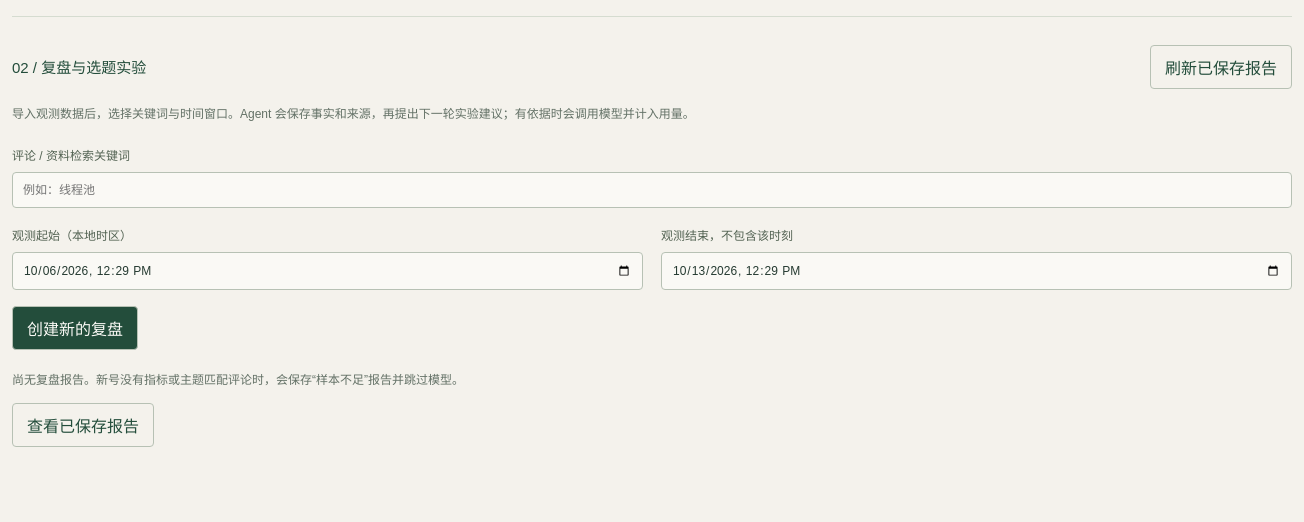
Test: does not send a paid request when the browser cannot persist its retry identifier
Step 1. Type "线程池" into the field named "复盘关键词" → [652, 190], box 12,172 -> 1292,208
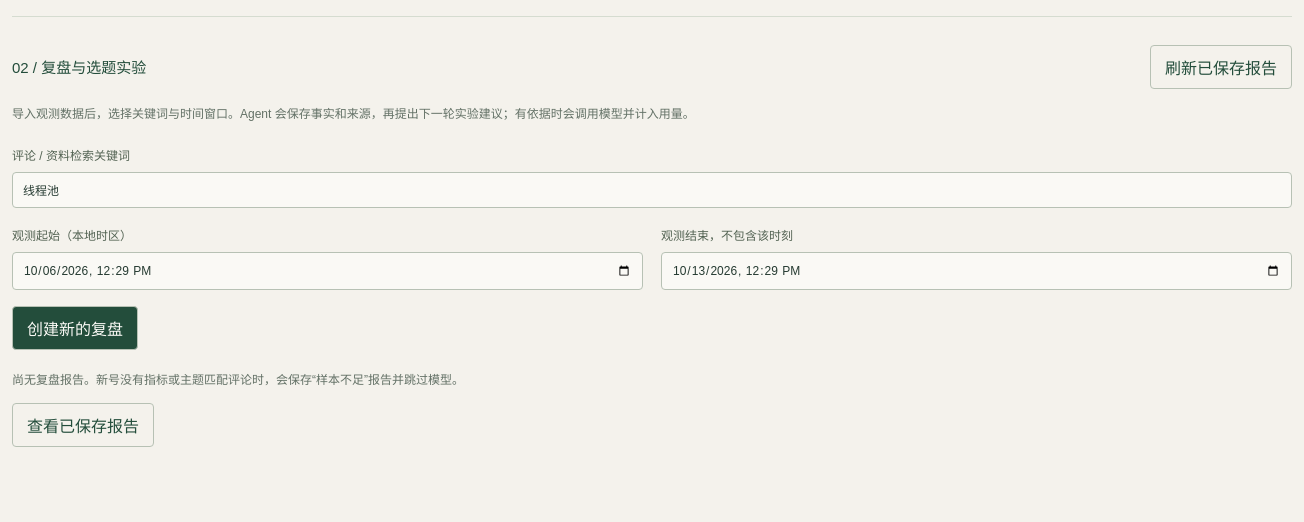
Step 2. Submit the form, box 12,146 -> 1292,350
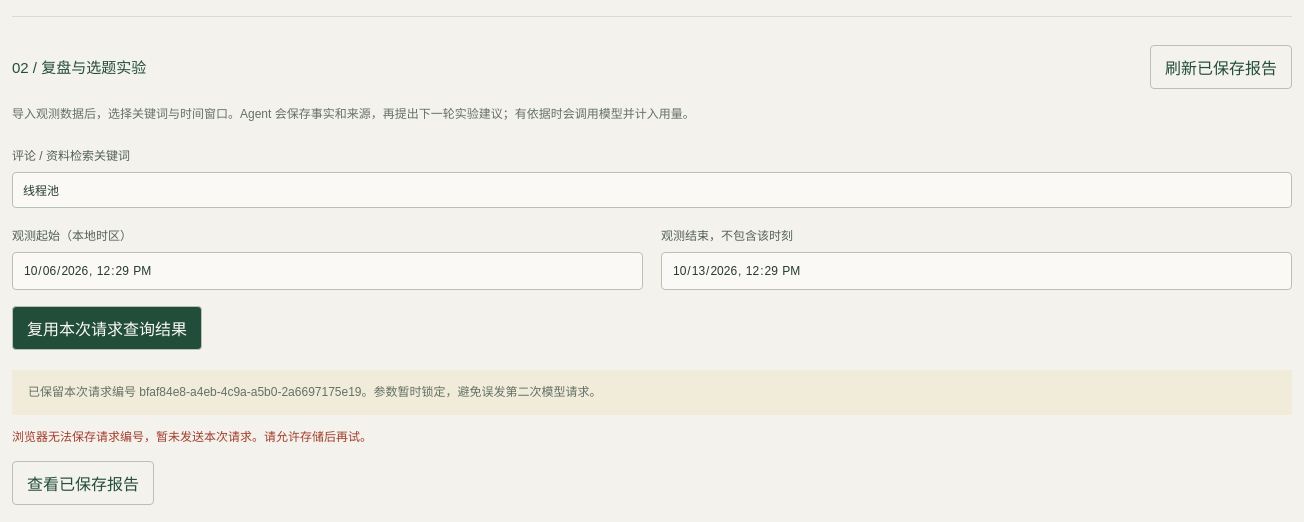
expect the message "浏览器无法保存请求编号，暂未发送本次请求。请允许存储后再试。" is shown: met, box 12,430 -> 372,444
